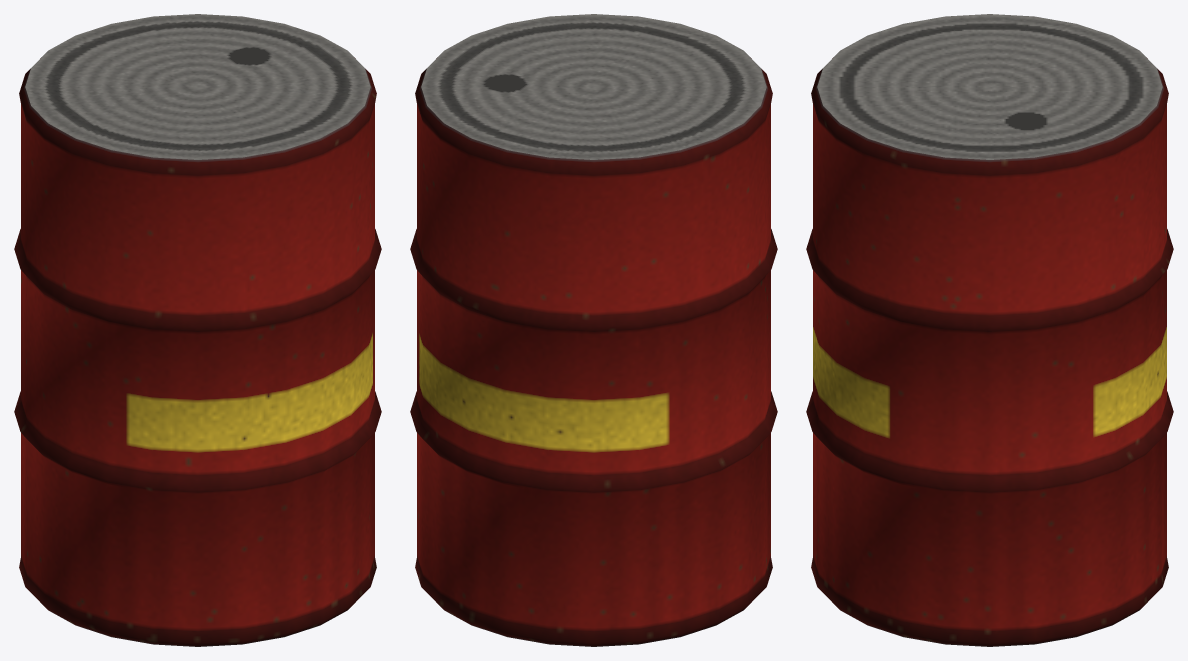
File: lf_blender_barrel.gltf
The picture shows the model from 3 angles, left to right: view 1: azimuth 30°, elevation 25°; view 2: azimuth 150°, elevation 25°; view 3: azimuth 270°, elevation 25°; orthographic projection.
Visible parts, largest first — view 1: lf_blender_barrel; view 2: lf_blender_barrel; view 3: lf_blender_barrel.
Part boxes in pixels (bbox=[...]): lf_blender_barrel: bbox=[14, 14, 381, 646]; lf_blender_barrel: bbox=[410, 14, 777, 646]; lf_blender_barrel: bbox=[806, 14, 1173, 646].
Size of what is drawn, in the model's own units: 0.602 by 0.88 by 0.602.
1 material, 1 textured.
